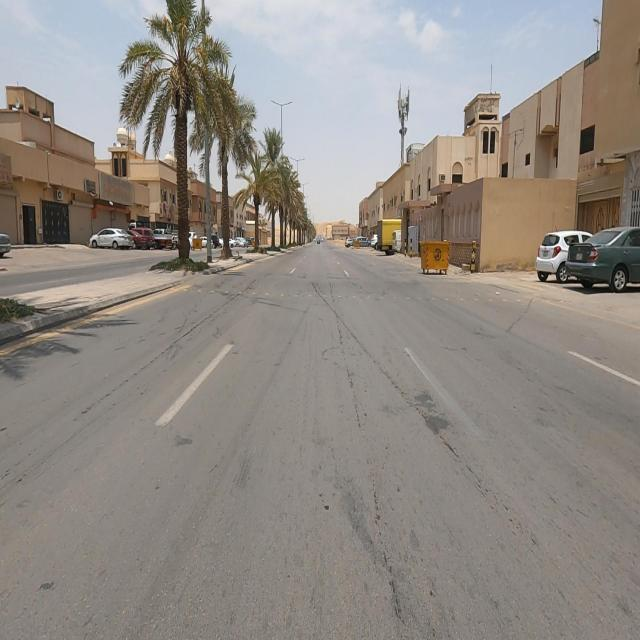debris: (76, 154, 158, 225)
